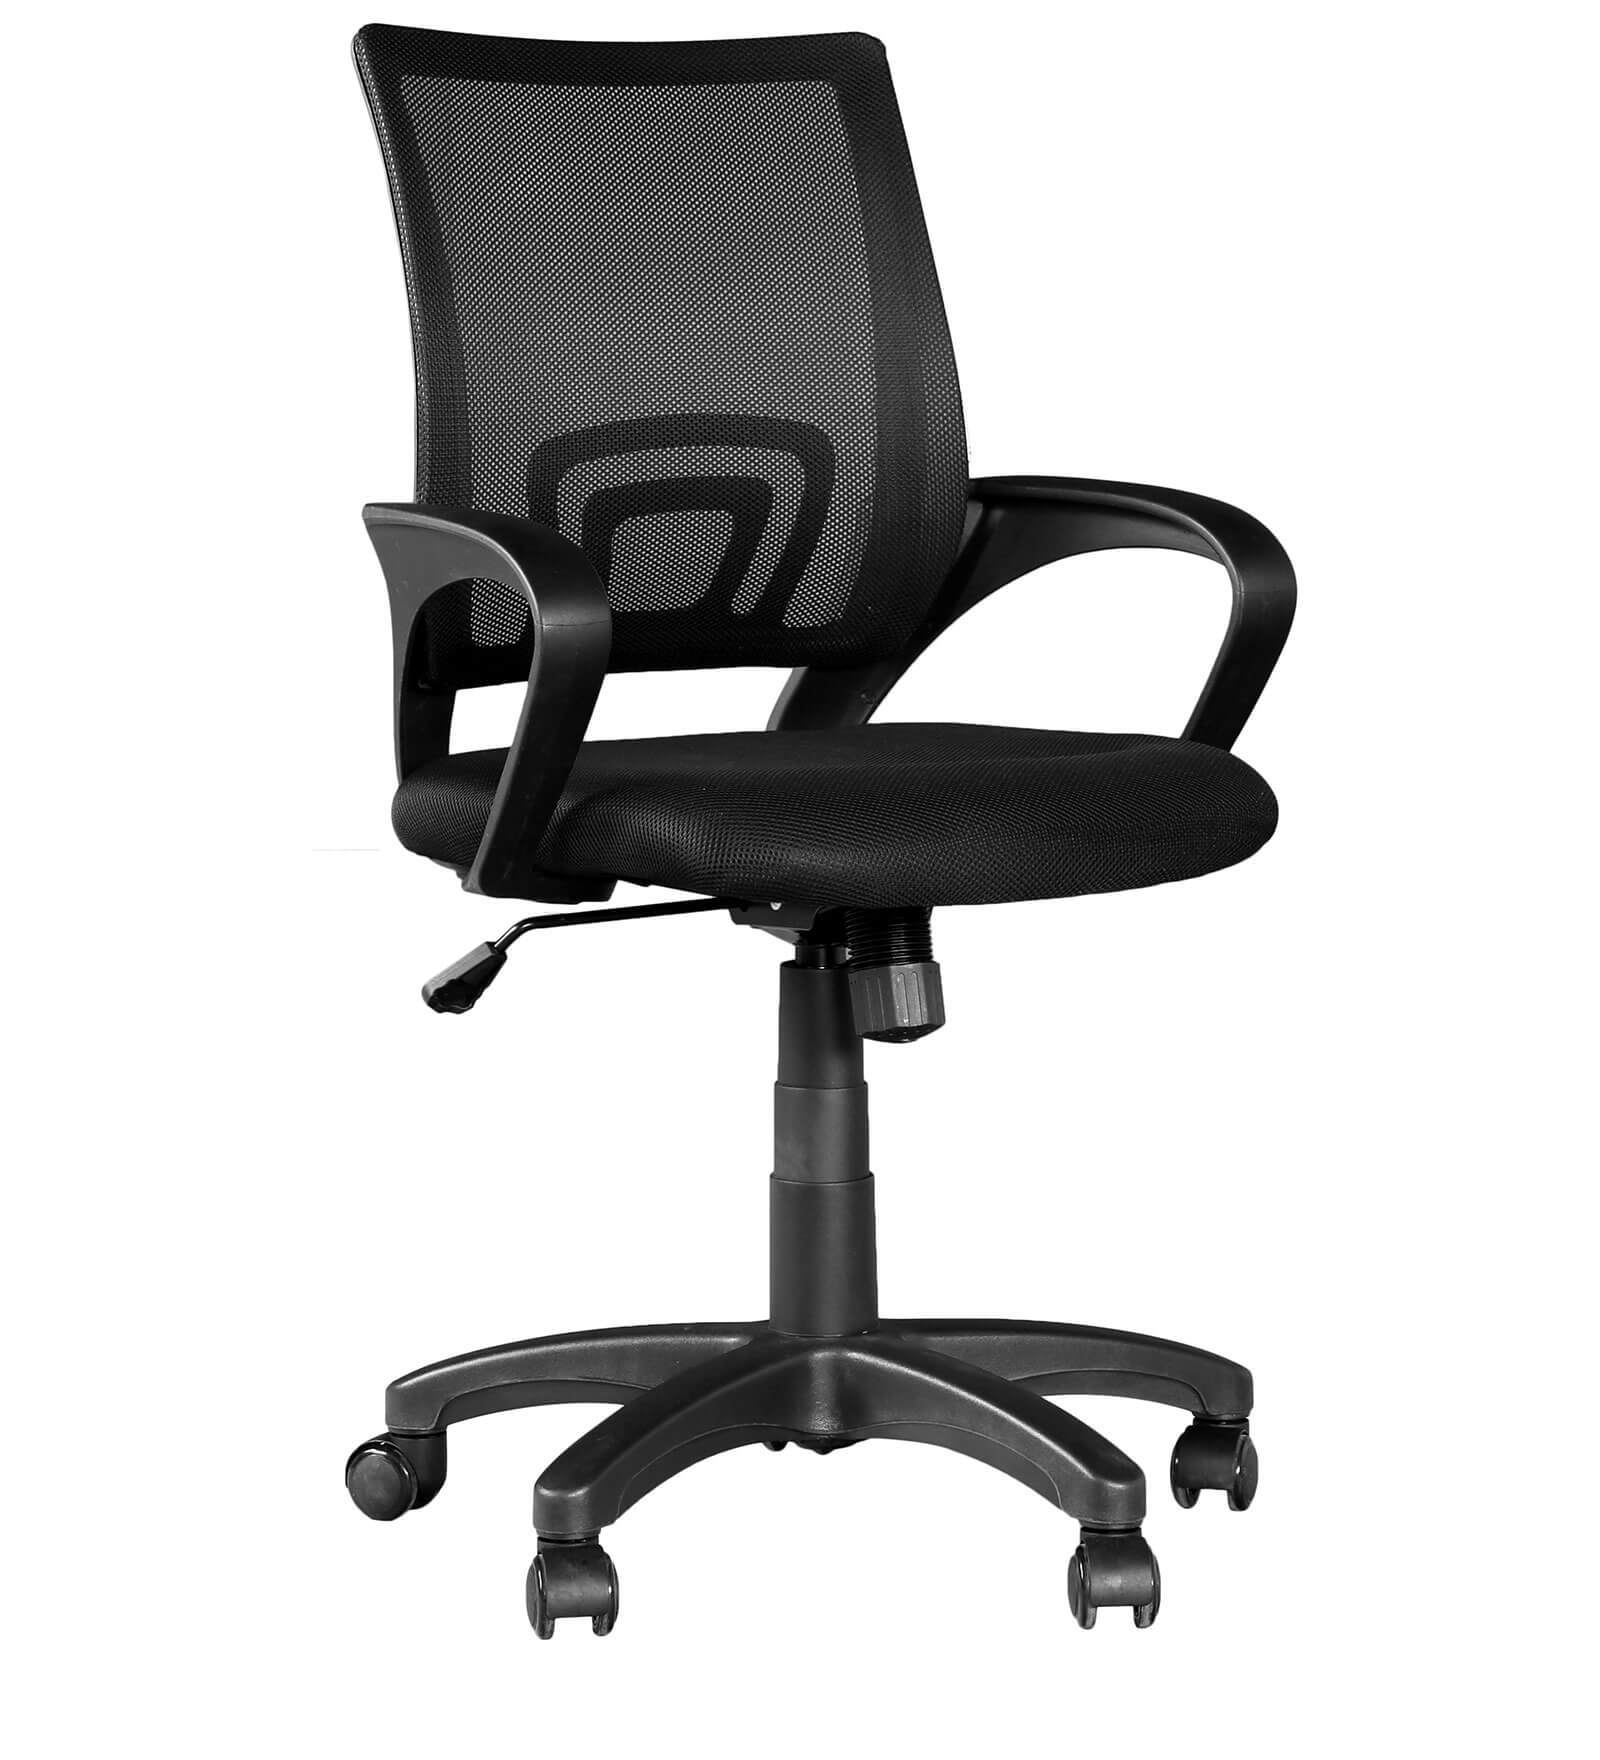Regus Low Back Mesh Chair in Green Colour by Hometown: (185, 25, 1450, 1706)
